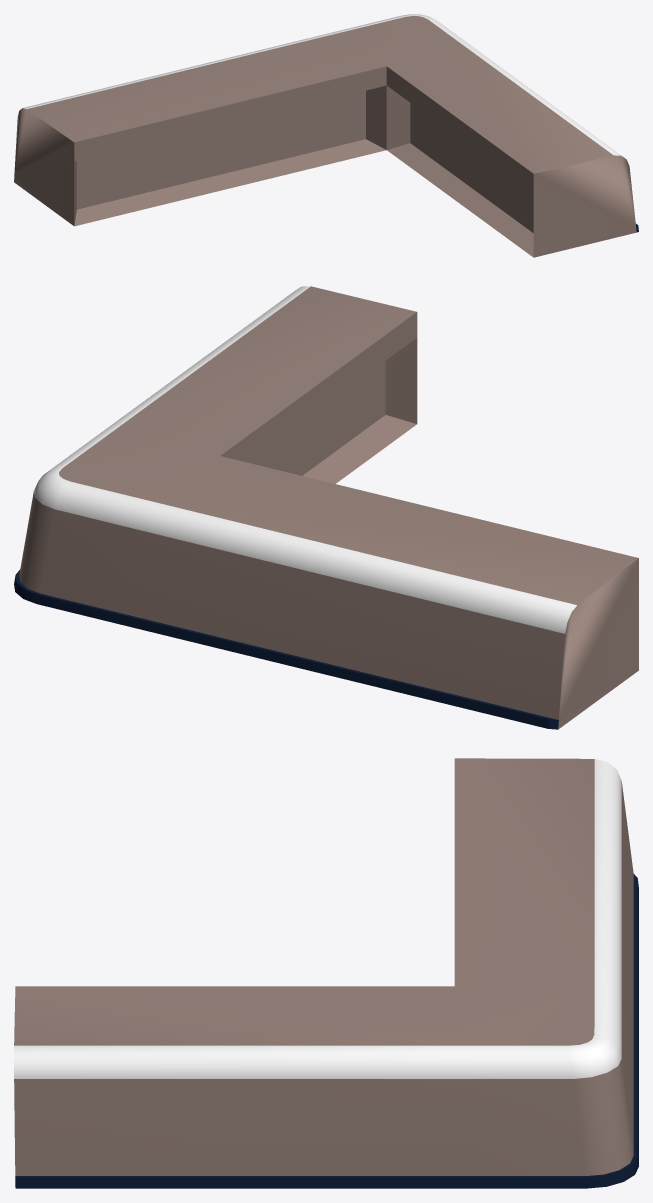
Rendered from FrontDeskV2.fbx.
The picture shows the model from 3 angles, top to bottom: view 1: azimuth 30°, elevation 25°; view 2: azimuth 150°, elevation 25°; view 3: azimuth 270°, elevation 25°; orthographic projection. The views are drawn at different scales.
Visible parts, largest first — view 1: FrontDesk; view 2: FrontDesk; view 3: FrontDesk.
Boxes of the visible parts, left/top/right/bottom form: FrontDesk: left=14, top=14, right=638, bottom=257; FrontDesk: left=14, top=286, right=638, bottom=729; FrontDesk: left=14, top=758, right=638, bottom=1188.
Size of the model in its own units: 247 by 47.33 by 214.
